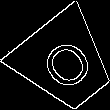O_SE: (32, 30, 99, 97)
